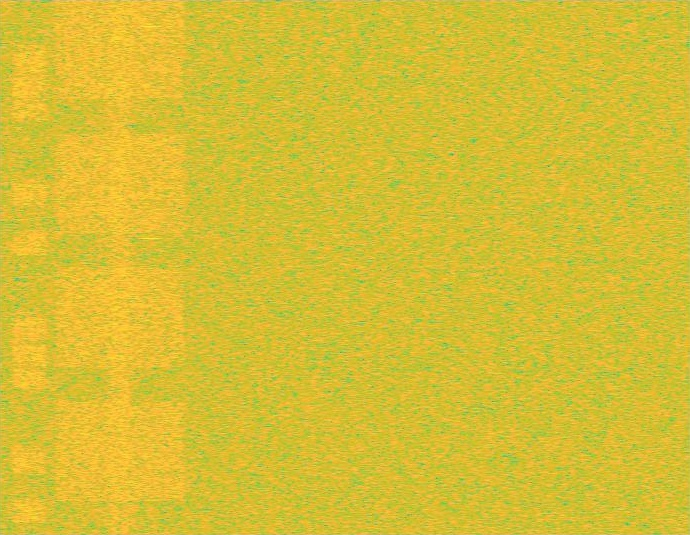5G: (51, 0, 189, 534)
DSSS: (104, 0, 135, 534)
LTE: (12, 0, 47, 534)
Radar: (143, 0, 157, 534)
